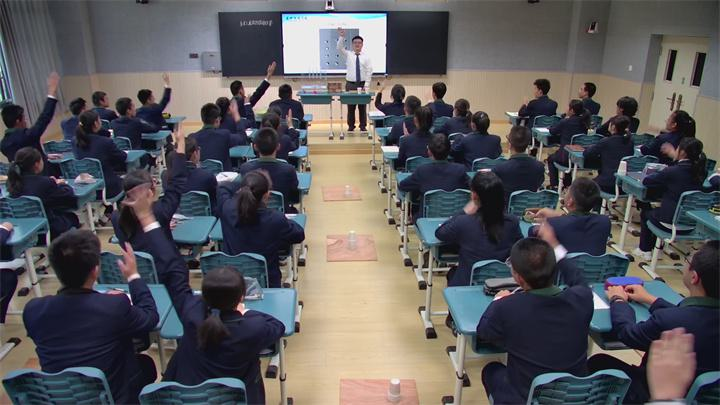hands-up: (140, 185, 290, 371), (24, 229, 156, 351), (3, 76, 69, 151), (189, 98, 246, 153), (133, 69, 179, 128), (227, 58, 276, 111), (260, 108, 304, 147), (371, 72, 406, 116)
listen: (479, 230, 580, 369), (603, 234, 717, 334), (427, 175, 521, 259), (542, 180, 606, 245), (8, 151, 73, 214), (586, 114, 632, 173), (79, 117, 125, 164), (517, 73, 558, 121), (572, 77, 607, 103), (425, 81, 450, 112)
